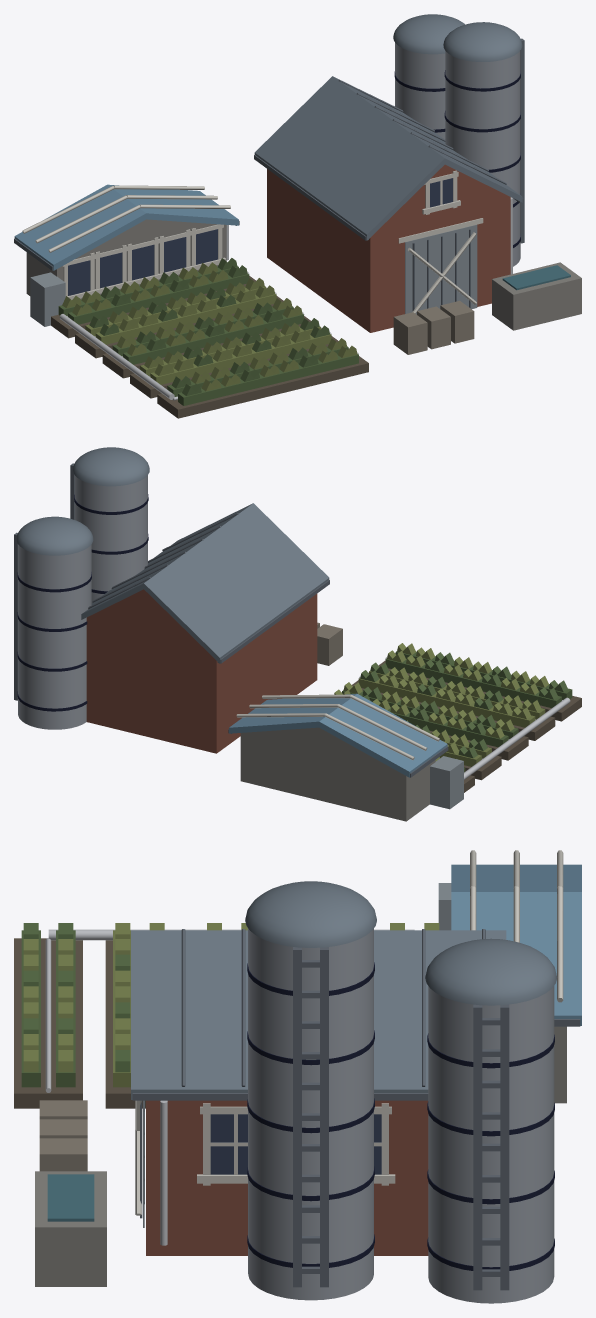
Rendered from farm_lvl3.glb.
3 views of the same model, one above another, from view 1: azimuth 30°, elevation 25°; view 2: azimuth 150°, elevation 25°; view 3: azimuth 270°, elevation 25° (orthographic). The views are drawn at different scales.
Visible parts, largest first — view 1: farm; view 2: farm; view 3: farm.
Boxes of the visible parts, bbox=[...] form: farm: bbox=[14, 14, 581, 418]; farm: bbox=[14, 447, 581, 821]; farm: bbox=[14, 850, 581, 1303].
Bounding box in the file's own units: 1 × 0.4952 × 0.6694.
